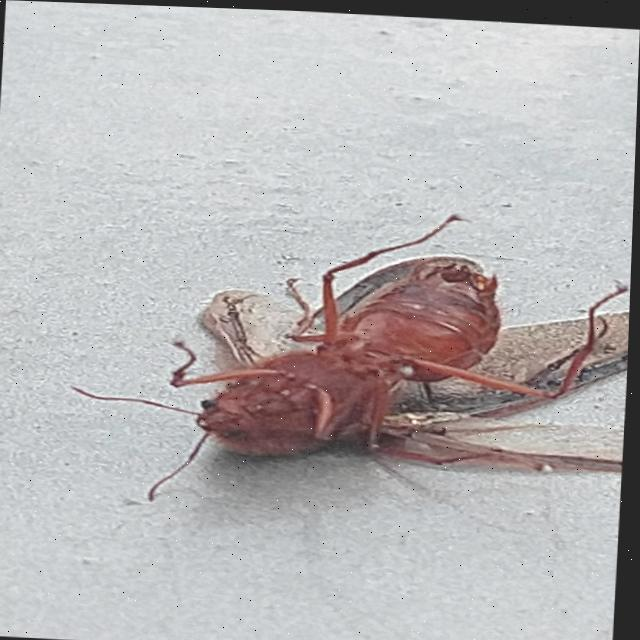Dead-Male-Alate: (67, 190, 635, 521)
